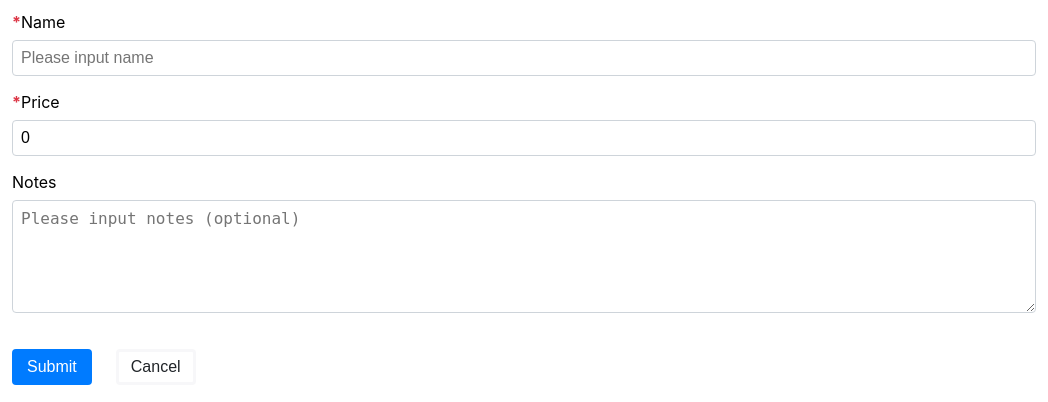
Test: number field "price" › zero-prefix number
Replace the text in the number field with placeholder "Please input price number" with "0123" at (524, 138), box [12,120,1036,156]
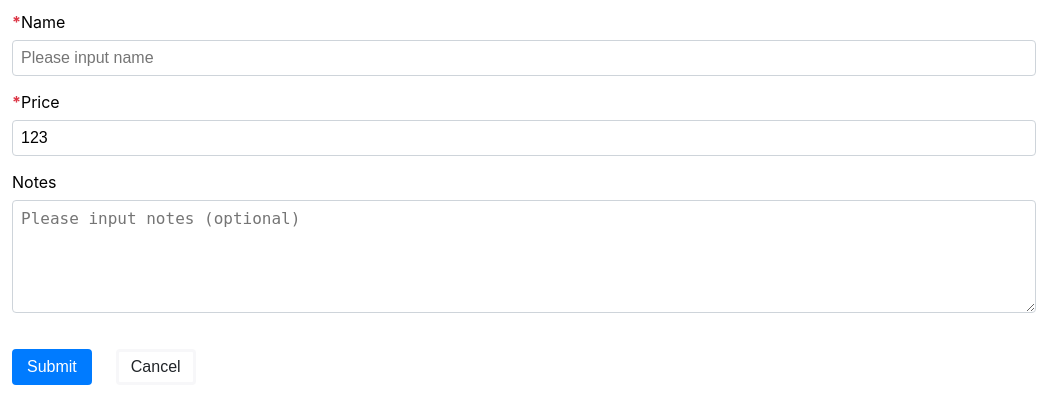
Expected: the number field with placeholder "Please input price number" holds "123", [12,120,1036,156]
